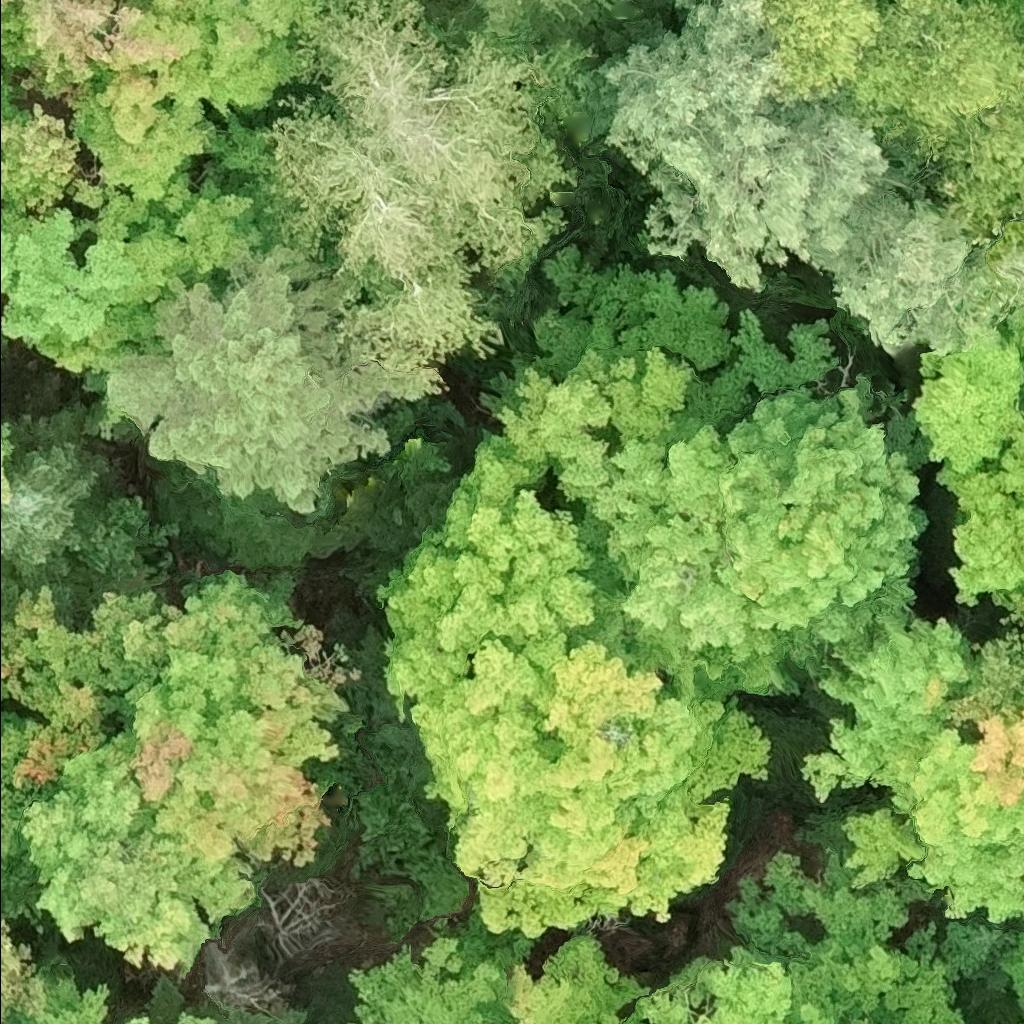crown: (475, 237, 930, 698), (377, 433, 773, 941), (575, 0, 1023, 357), (19, 568, 362, 981), (244, 0, 603, 374), (104, 239, 445, 513), (802, 614, 1023, 922), (758, 0, 1023, 249), (0, 163, 273, 398), (72, 0, 325, 202), (0, 401, 186, 623), (0, 0, 181, 226), (347, 907, 654, 1023), (0, 578, 165, 793), (779, 884, 969, 1023), (908, 306, 1023, 476), (934, 424, 1023, 606), (619, 946, 793, 1023), (424, 0, 619, 61), (0, 707, 48, 929), (253, 878, 358, 961), (134, 974, 311, 1023), (200, 941, 296, 1009), (5, 971, 111, 1023), (0, 904, 46, 1023), (976, 217, 1023, 259), (0, 685, 47, 719), (0, 225, 17, 314), (0, 420, 13, 502), (173, 1007, 220, 1023), (999, 0, 1023, 29), (122, 1014, 152, 1023), (0, 333, 8, 359), (0, 183, 3, 202), (0, 648, 0, 659)
